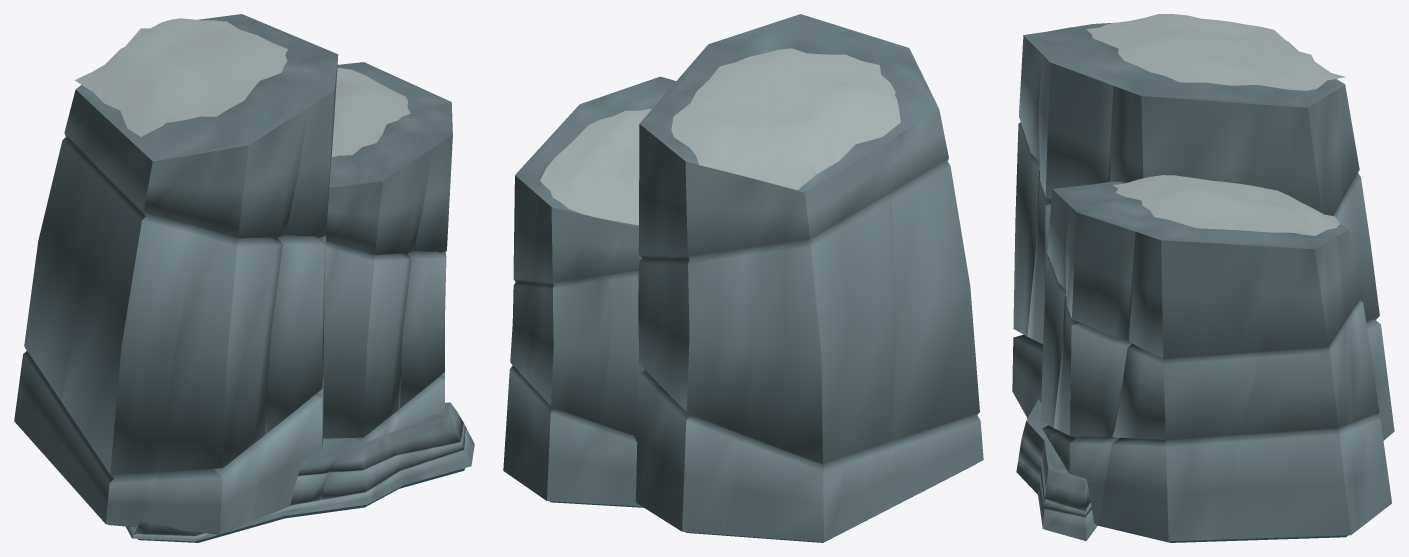
Rendered from glacial_spires.glb.
The picture shows the model from 3 angles, left to right: view 1: azimuth 30°, elevation 25°; view 2: azimuth 150°, elevation 25°; view 3: azimuth 270°, elevation 25°; orthographic projection. The views are drawn at different scales.
Visible parts, largest first — view 1: glacial_spires; view 2: glacial_spires; view 3: glacial_spires.
Boxes of the visible parts, box(x1,y1,x2,y2) form: glacial_spires: box(14, 14, 474, 542); glacial_spires: box(503, 14, 983, 542); glacial_spires: box(1012, 14, 1394, 542).
Size of the model in its own units: 2.49 by 2.58 by 2.18.
